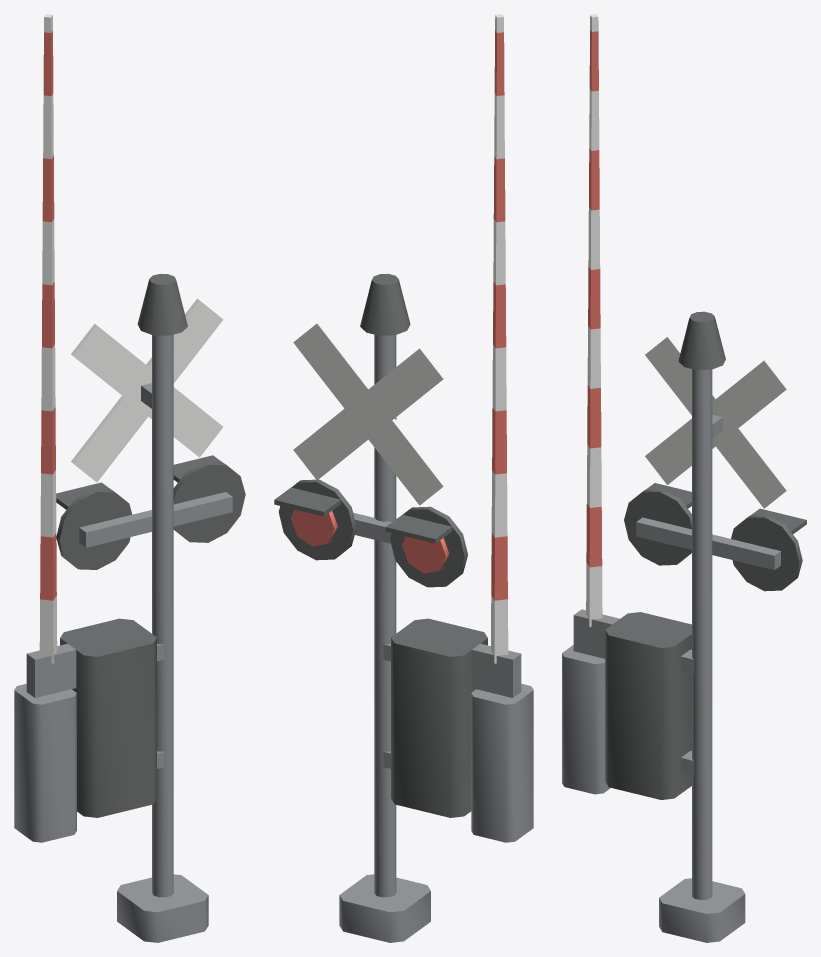
Rendered from crossing-gate-1.glb.
The picture shows the model from 3 angles, left to right: view 1: azimuth 30°, elevation 25°; view 2: azimuth 150°, elevation 25°; view 3: azimuth 330°, elevation 25°; orthographic projection. The views are drawn at different scales.
Visible parts, largest first — view 1: crossing-gate-1; view 2: crossing-gate-1; view 3: crossing-gate-1.
Boxes of the visible parts, x1,y1,x2,y2 form: crossing-gate-1: (14,14,245,942); crossing-gate-1: (274,14,533,942); crossing-gate-1: (562,14,806,942).
Bounding box in the file's own units: 0.2598 × 1 × 0.0951.
